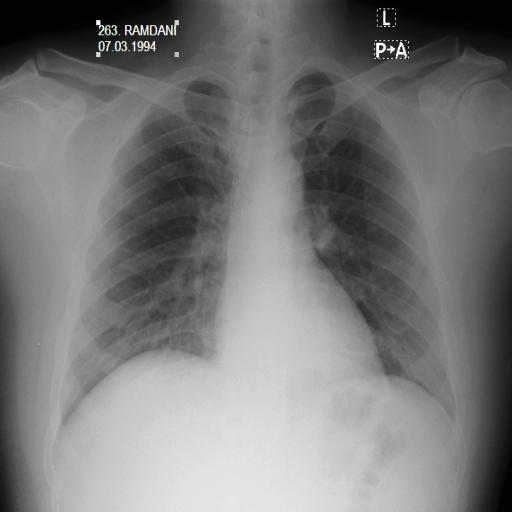normal: (46, 53, 471, 456)
